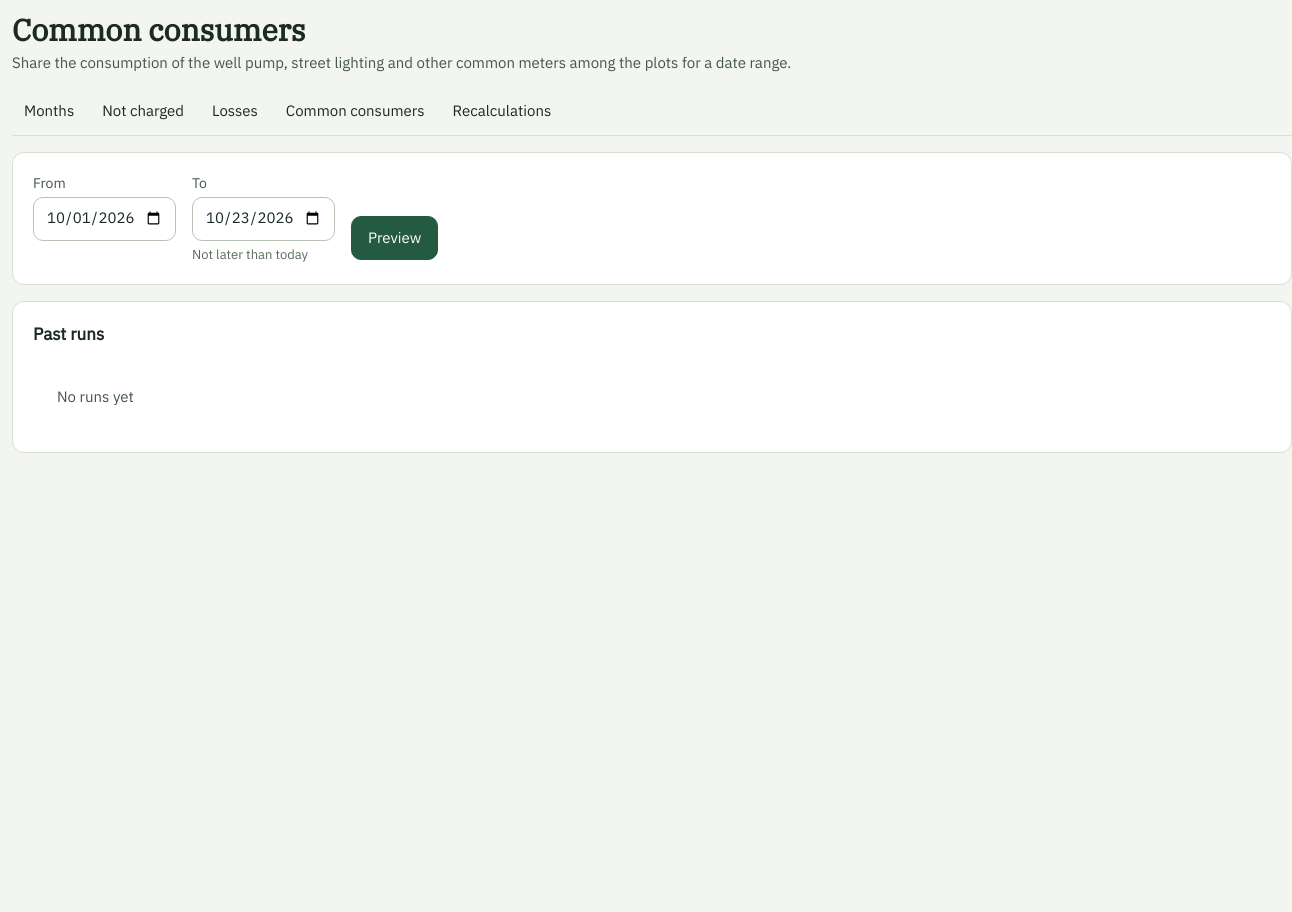
Test: CommonConsumersPage › shows per consumer the consumption, split, plot-days, plots and amounts
Click the button "Preview". click: (395, 238)
box: [351,216,438,260]
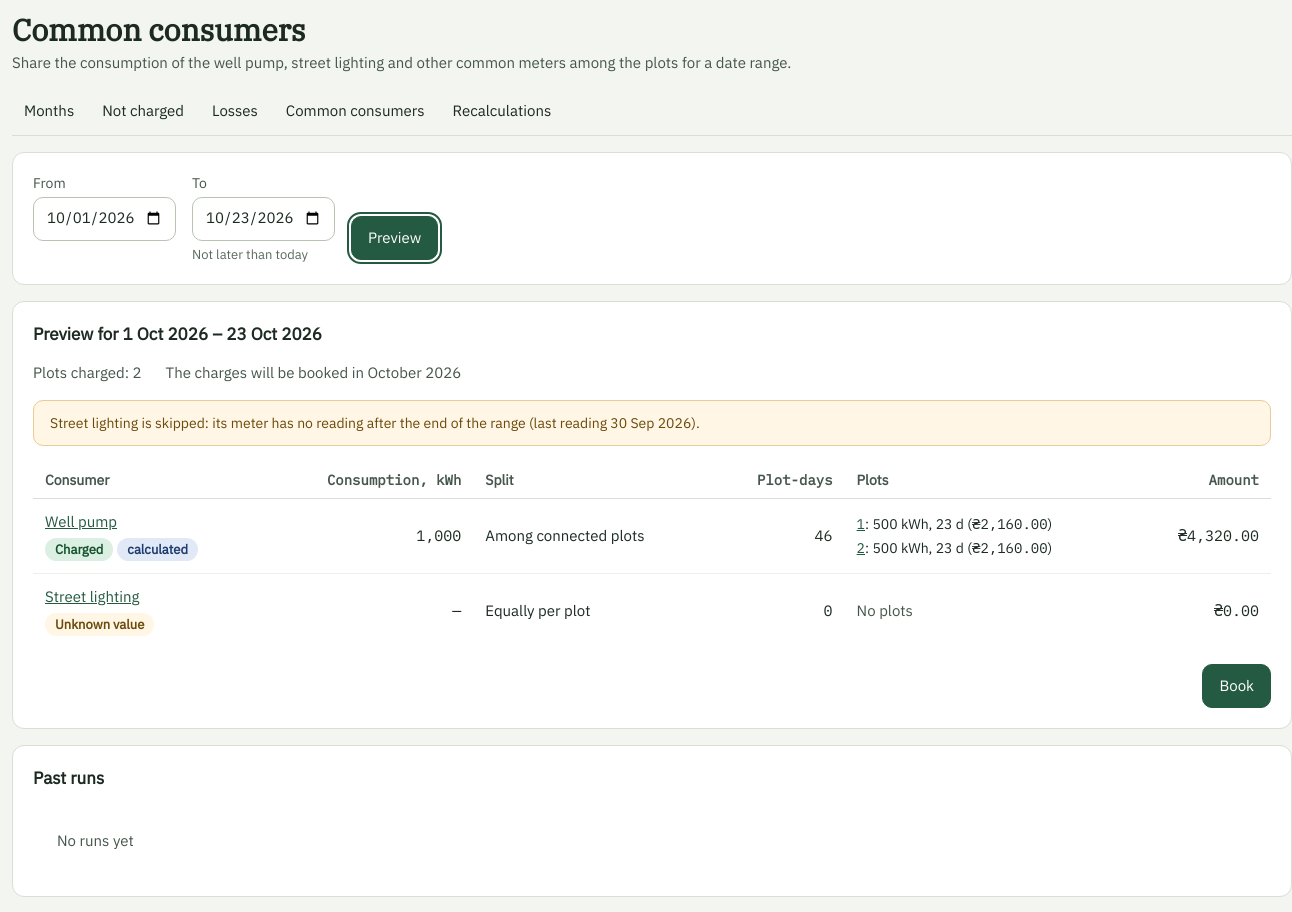
Result: the text "1,000" is shown at [265,499,473,574]
Result: the text "Among connected plots" is shown at [473,499,714,574]
Result: the text "46" is shown at [714,499,845,574]
